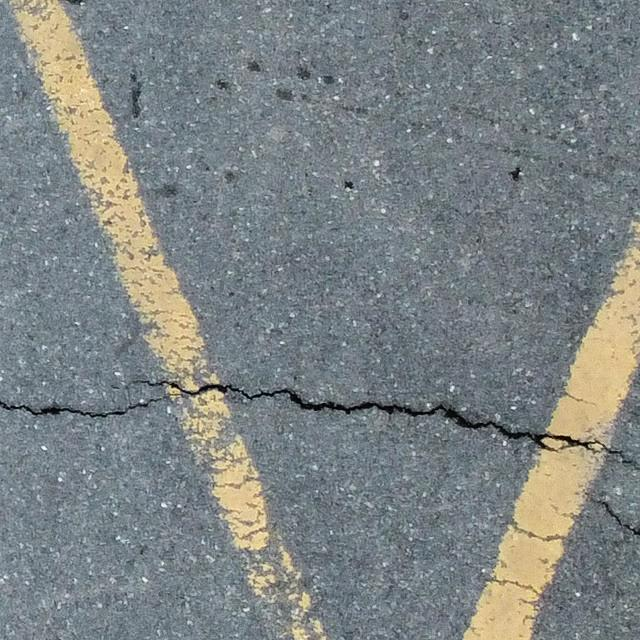TransverseCrack: (2, 377, 640, 469), (589, 495, 640, 533)
